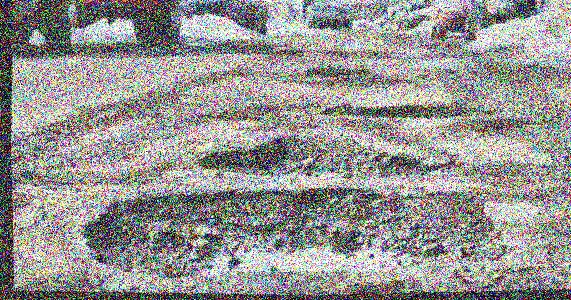pothole: (75, 171, 512, 293), (194, 124, 462, 187), (319, 97, 503, 124), (306, 62, 372, 80)
